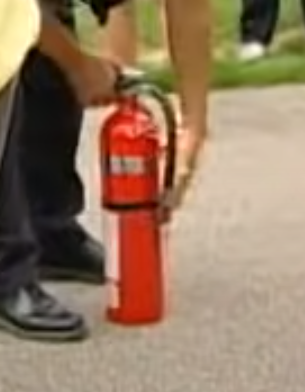fire_extinguisher: (98, 71, 179, 326)
